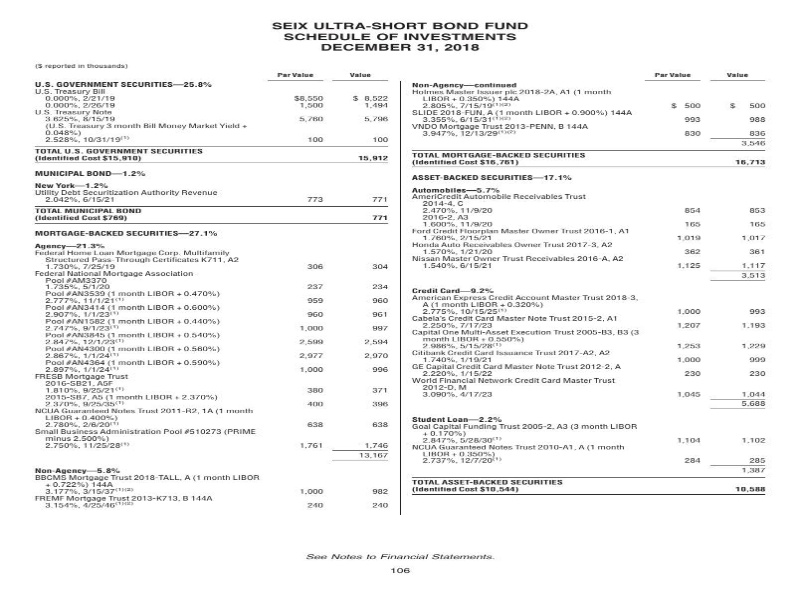table: (18, 55, 407, 534), (392, 60, 788, 525)
